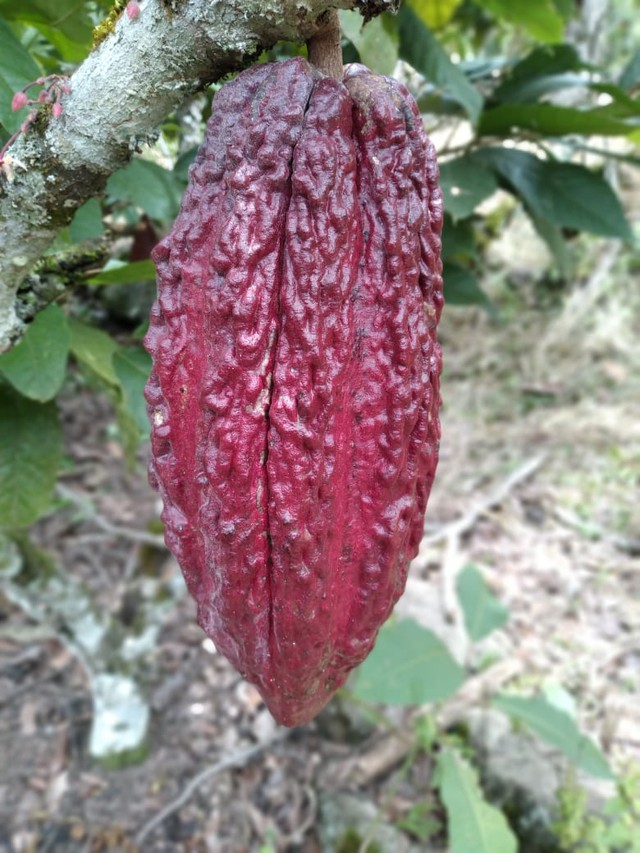Health: (140, 48, 451, 733)
